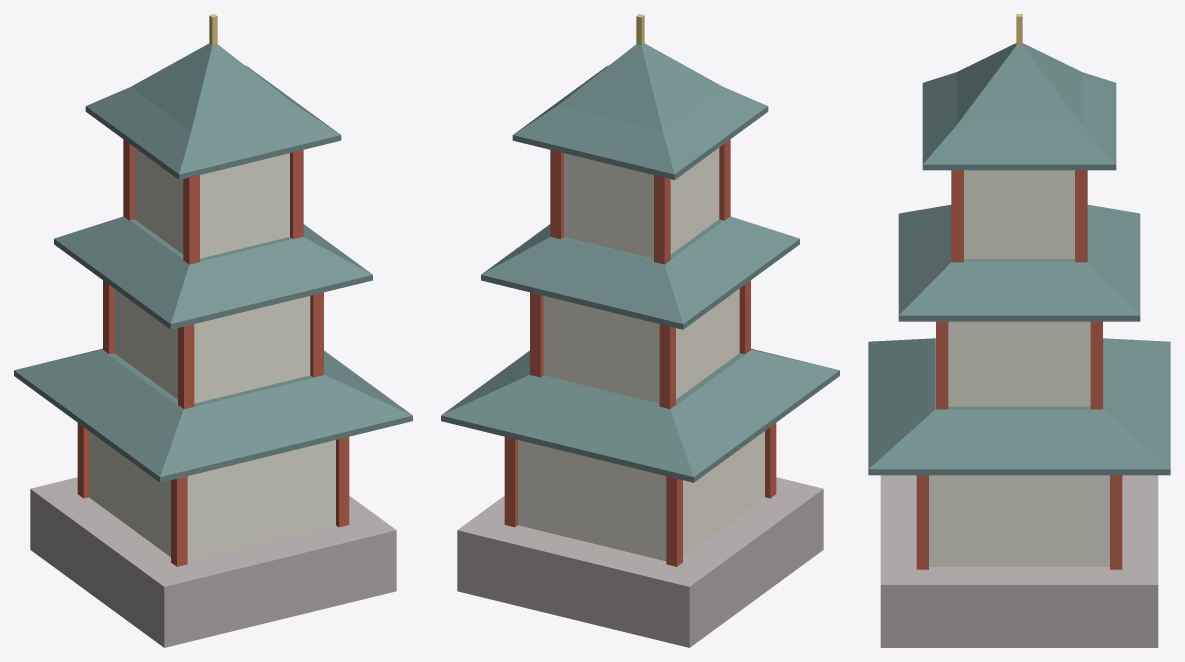
The model's file is tower_s2_02.glb.
3 views of the same model, side by side, from view 1: azimuth 30°, elevation 25°; view 2: azimuth 150°, elevation 25°; view 3: azimuth 270°, elevation 25° (orthographic). The views are drawn at different scales.
Parts seen in each view (by area): view 1: part00, part04, part01, part02; view 2: part00, part04, part01, part02; view 3: part00, part04, part01, part02.
Boxes of the visible parts, x1=… form: part00: x1=14, y1=43, x2=412, y2=482; part04: x1=89, y1=148, x2=335, y2=561; part01: x1=30, y1=477, x2=396, y2=647; part02: x1=77, y1=139, x2=349, y2=566; part00: x1=441, y1=43, x2=839, y2=482; part04: x1=518, y1=148, x2=764, y2=561; part01: x1=457, y1=477, x2=823, y2=647; part02: x1=504, y1=139, x2=776, y2=566; part00: x1=868, y1=43, x2=1170, y2=475; part04: x1=929, y1=170, x2=1109, y2=566; part01: x1=880, y1=475, x2=1158, y2=647; part02: x1=916, y1=170, x2=1122, y2=569.
Bounding box in the file's own units: 8.42 × 17.64 × 8.42.
